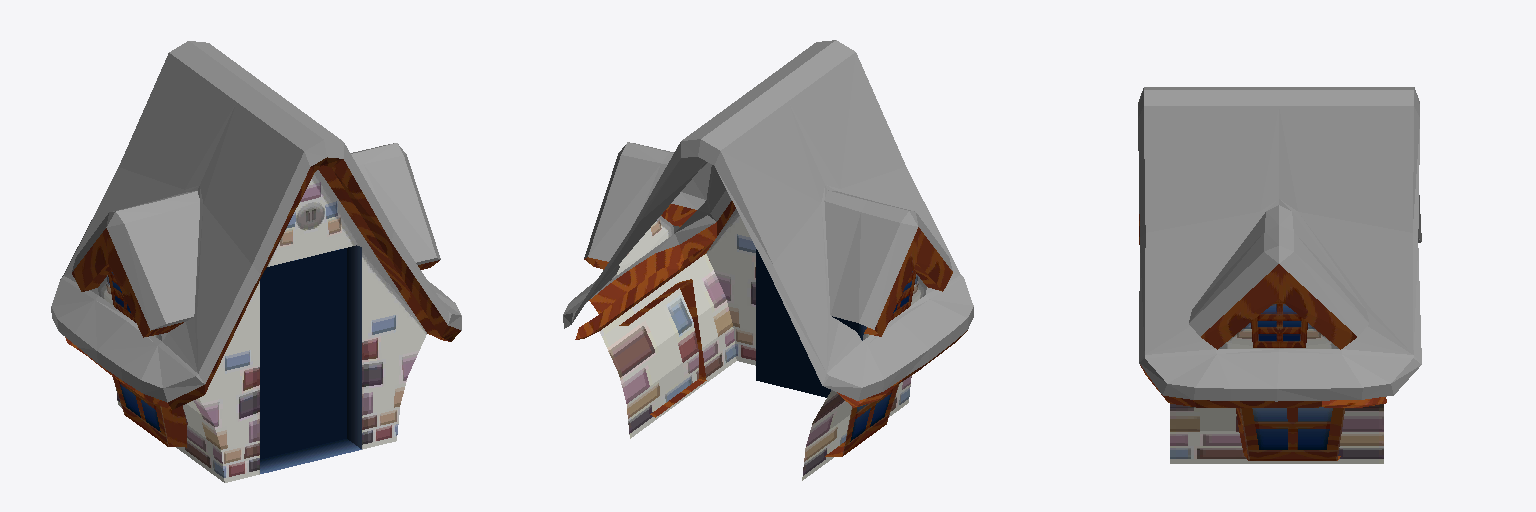
3 renders of one model, left to right at view 1: azimuth 30°, elevation 25°; view 2: azimuth 150°, elevation 25°; view 3: azimuth 270°, elevation 25°, orthographic.
Parts seen in each view (by area): view 1: vsn_mesh_1__mesh_1_.003, vsn_mesh_0__mesh_0_.003; view 2: vsn_mesh_1__mesh_1_.003, vsn_mesh_0__mesh_0_.003; view 3: vsn_mesh_1__mesh_1_.003, vsn_mesh_0__mesh_0_.003.
Boxes of the visible parts, <box> form: vsn_mesh_1__mesh_1_.003: <box>51,41,461,402</box>; vsn_mesh_0__mesh_0_.003: <box>65,157,460,482</box>; vsn_mesh_1__mesh_1_.003: <box>563,40,973,400</box>; vsn_mesh_0__mesh_0_.003: <box>575,201,967,480</box>; vsn_mesh_1__mesh_1_.003: <box>1138,87,1421,401</box>; vsn_mesh_0__mesh_0_.003: <box>1139,214,1386,463</box>.
Bounding box in the file's own units: 0.9712 × 0.961 × 0.7447.
Materials: 2 (1 with a texture image).